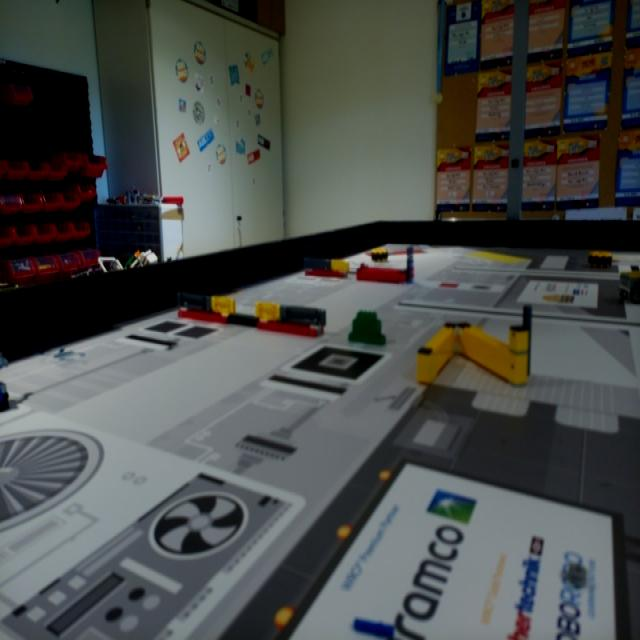gruen: (346, 308, 392, 348)
